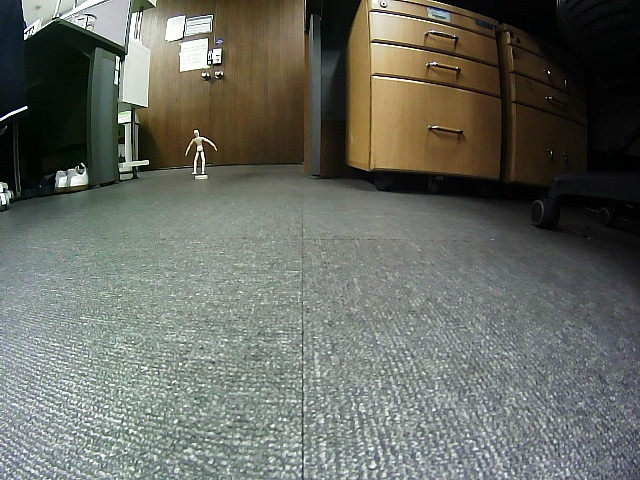person: (184, 128, 217, 175)
